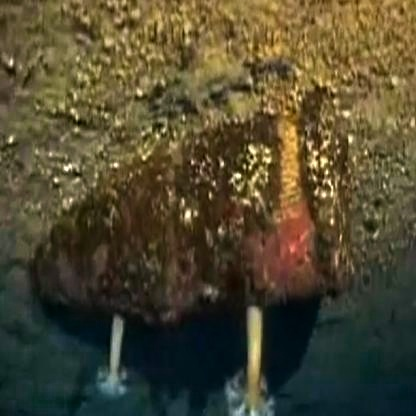gbottle: (39, 132, 337, 339)
